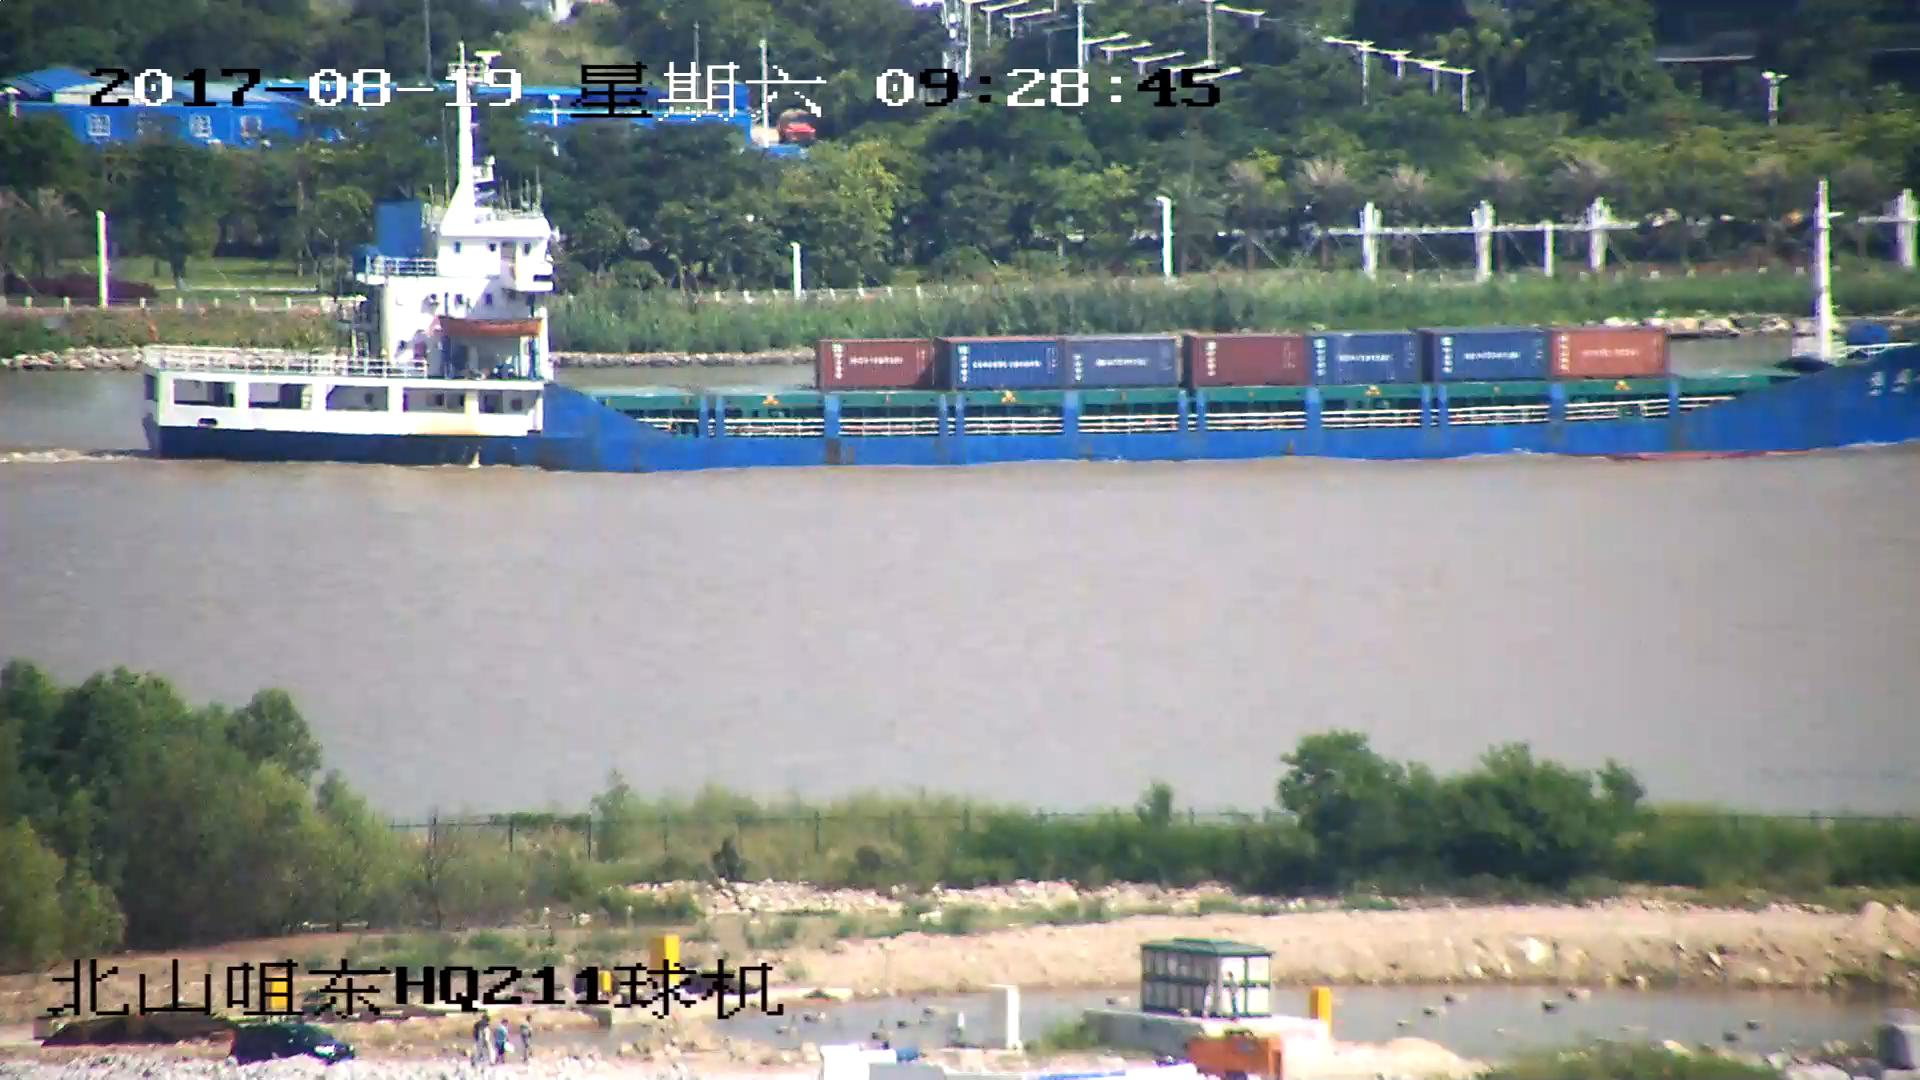general cargo ship: (127, 108, 1920, 467)
